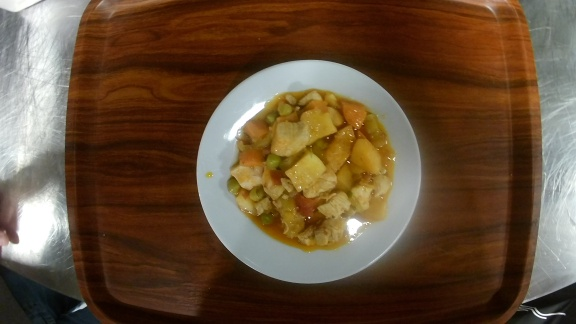bezelyelitavuk: (193, 58, 422, 287)
